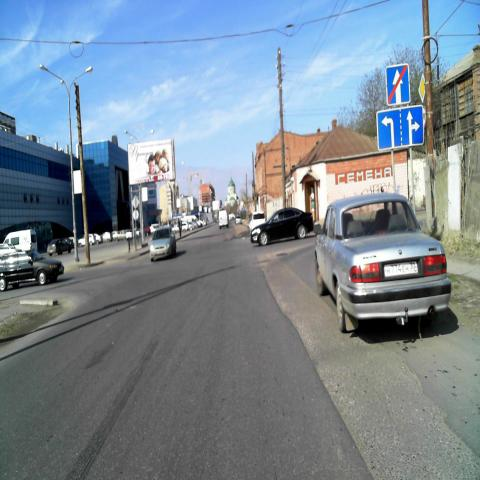2_1: (418, 72, 426, 104)
5_15_2_2: (377, 106, 425, 150)
5_6: (386, 64, 410, 106)
